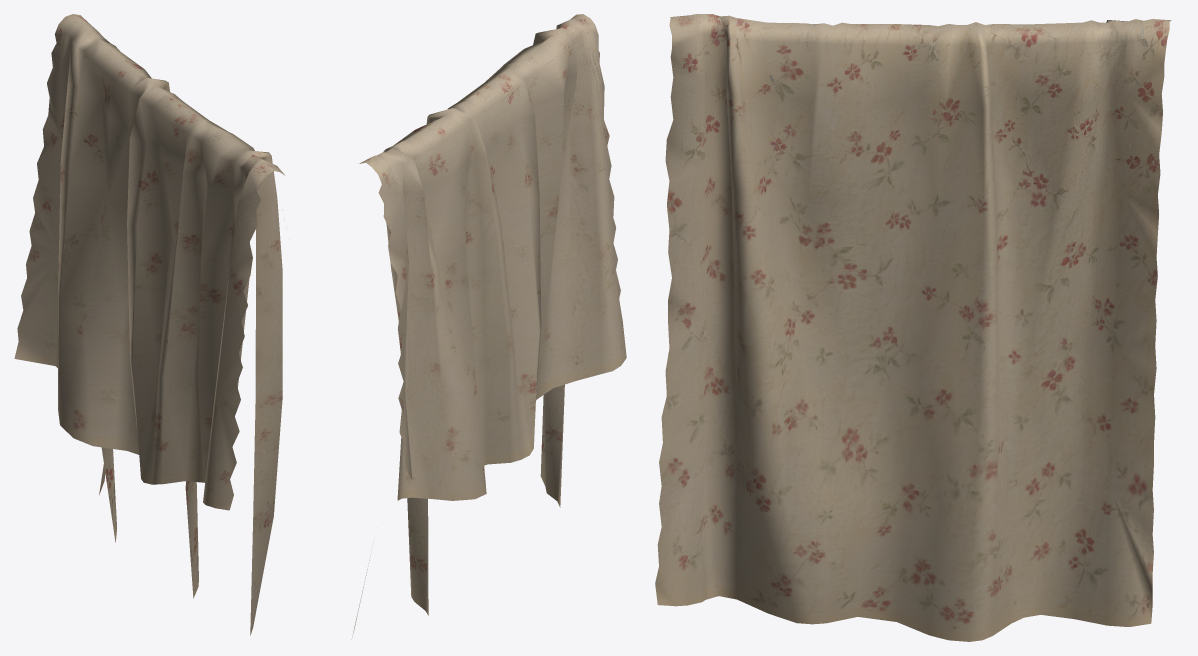
3 renders of one model, left to right at view 1: azimuth 30°, elevation 25°; view 2: azimuth 150°, elevation 25°; view 3: azimuth 270°, elevation 25°, orthographic. The views are drawn at different scales.
Visible parts, largest first — view 1: tripo_node_20cf40a4-3927-44bd-9ba4-dc2662c7939b; view 2: tripo_node_20cf40a4-3927-44bd-9ba4-dc2662c7939b; view 3: tripo_node_20cf40a4-3927-44bd-9ba4-dc2662c7939b.
Part boxes in pixels (<box>): tripo_node_20cf40a4-3927-44bd-9ba4-dc2662c7939b: <box>14,14,285,635</box>; tripo_node_20cf40a4-3927-44bd-9ba4-dc2662c7939b: <box>351,14,626,639</box>; tripo_node_20cf40a4-3927-44bd-9ba4-dc2662c7939b: <box>655,14,1171,641</box>.
Size of the model in its own units: 0.209 by 0.998 by 0.7949.
1 material, 1 textured.
